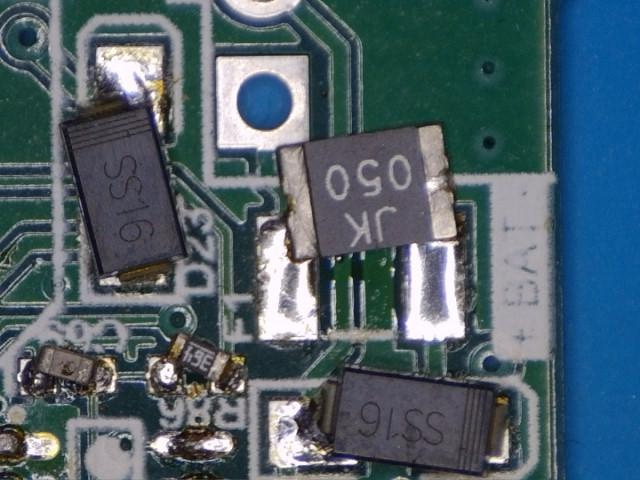pcb_defect: (254, 121, 469, 343), (58, 41, 190, 287), (214, 54, 323, 344), (261, 366, 517, 477), (144, 330, 249, 398), (18, 344, 118, 397)
